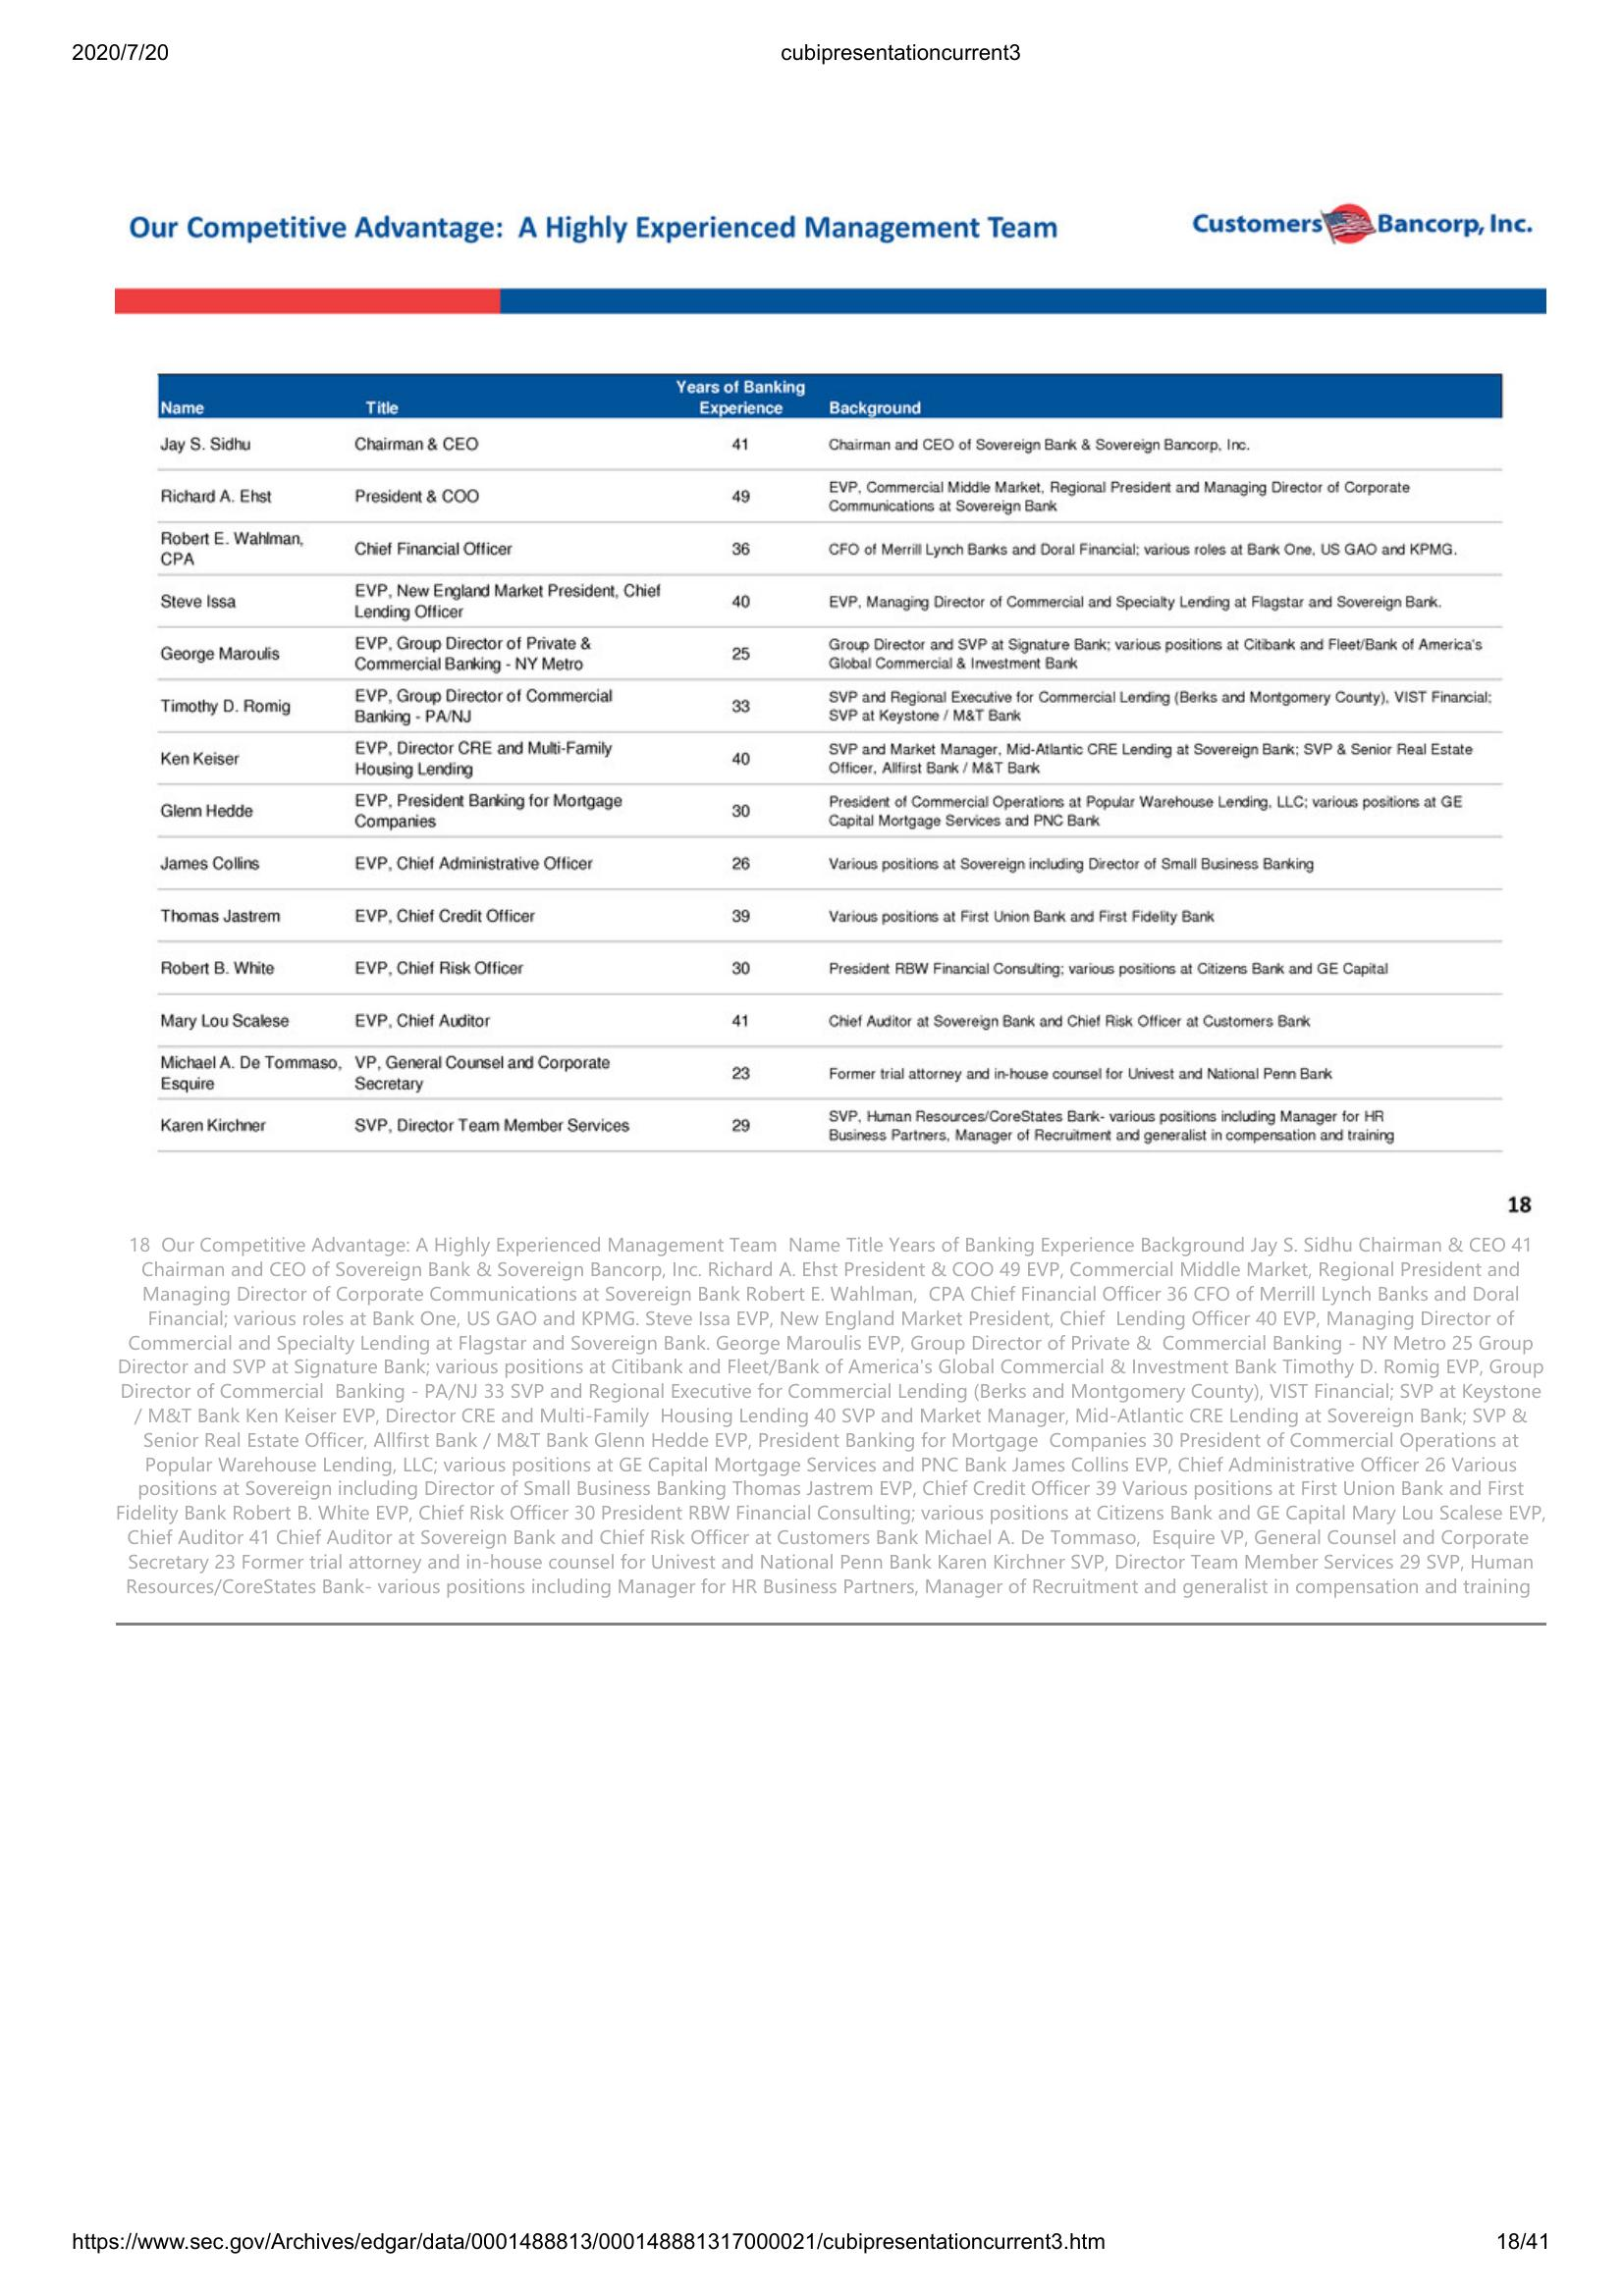table: (153, 363, 1511, 1171)
